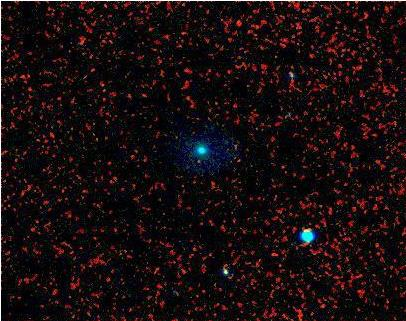star: (211, 256, 241, 286)
